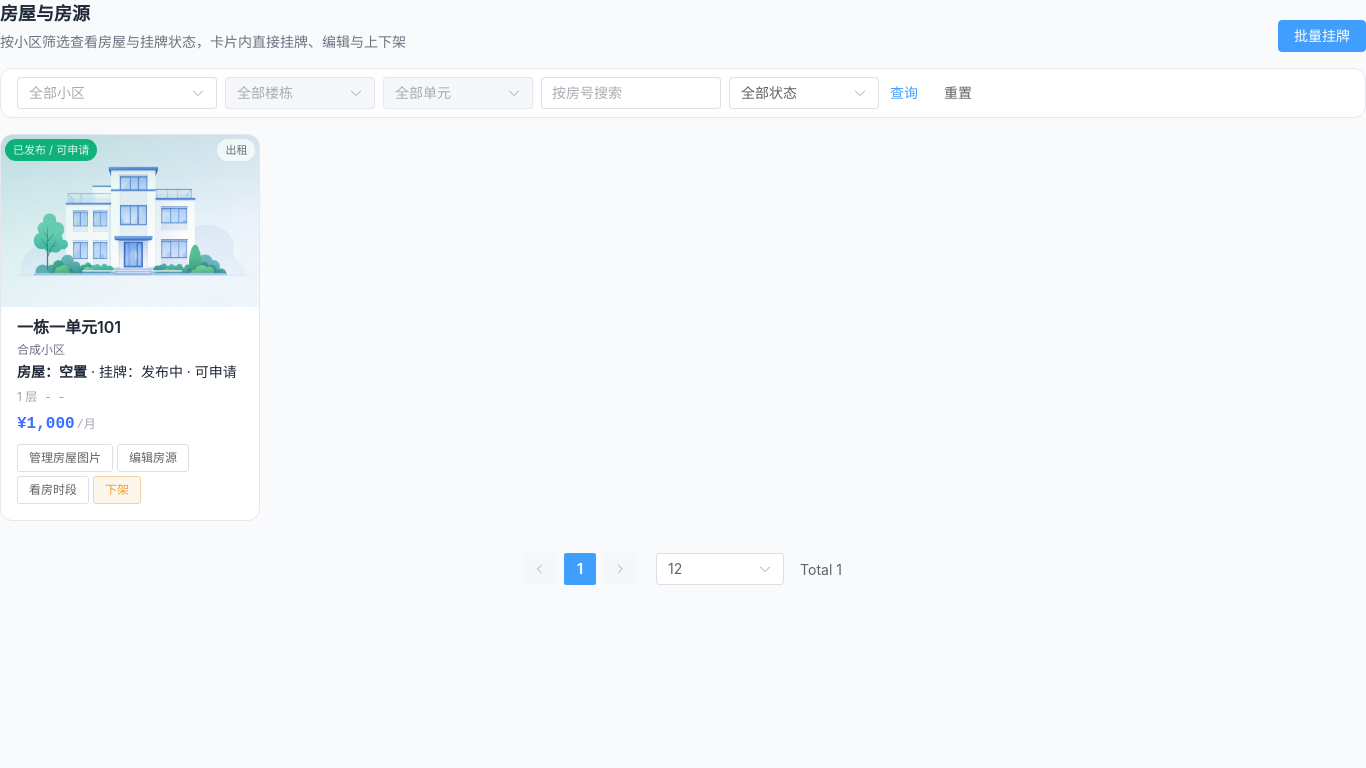
Test: 挂牌编辑加载门禁 › 关闭后迟到响应不会覆盖重新打开的详情
What coordinates should you click on to do the following:
click the button "编辑房源"
I would click on:
 (153, 458)
Its box is [117,444,189,472].
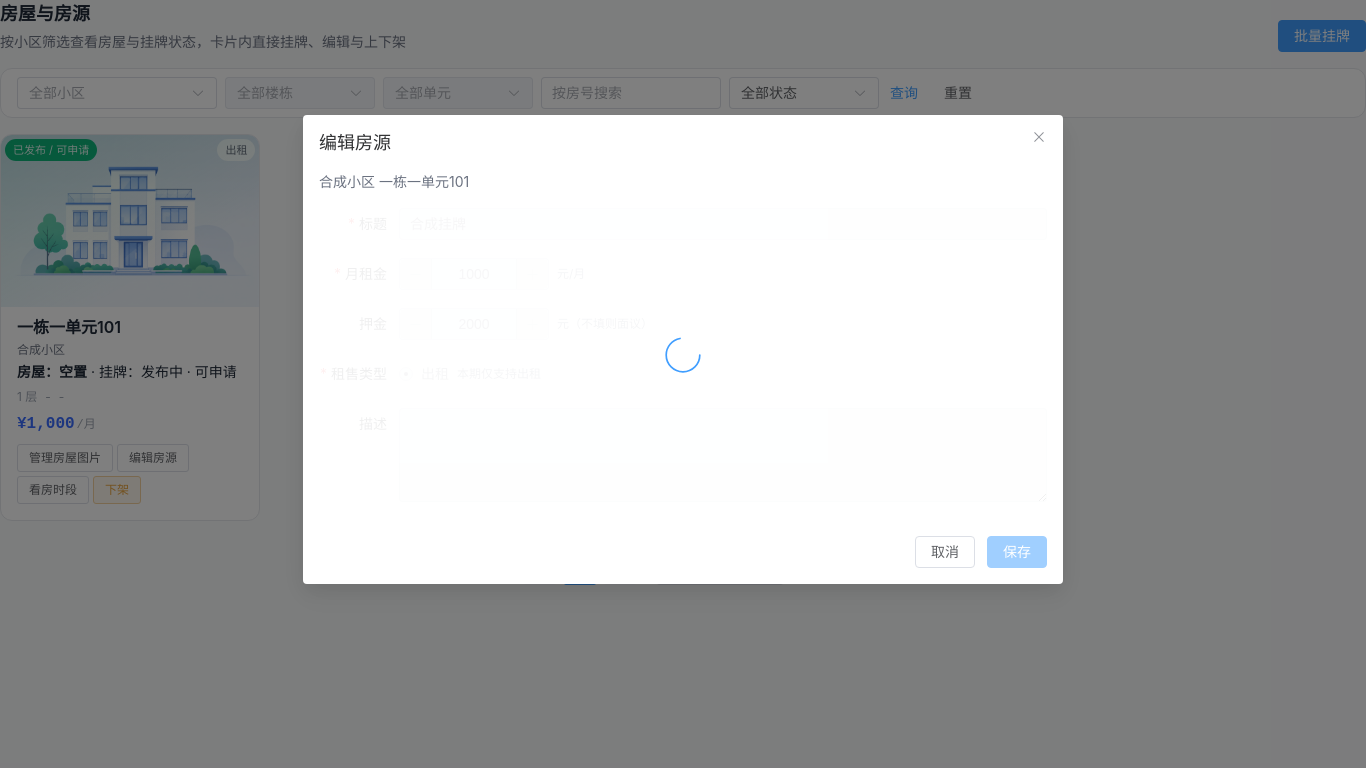
What coordinates should you click on to do the following:
click the button "取消"
I would click on:
 (945, 552)
Its box is [915,536,975,568].
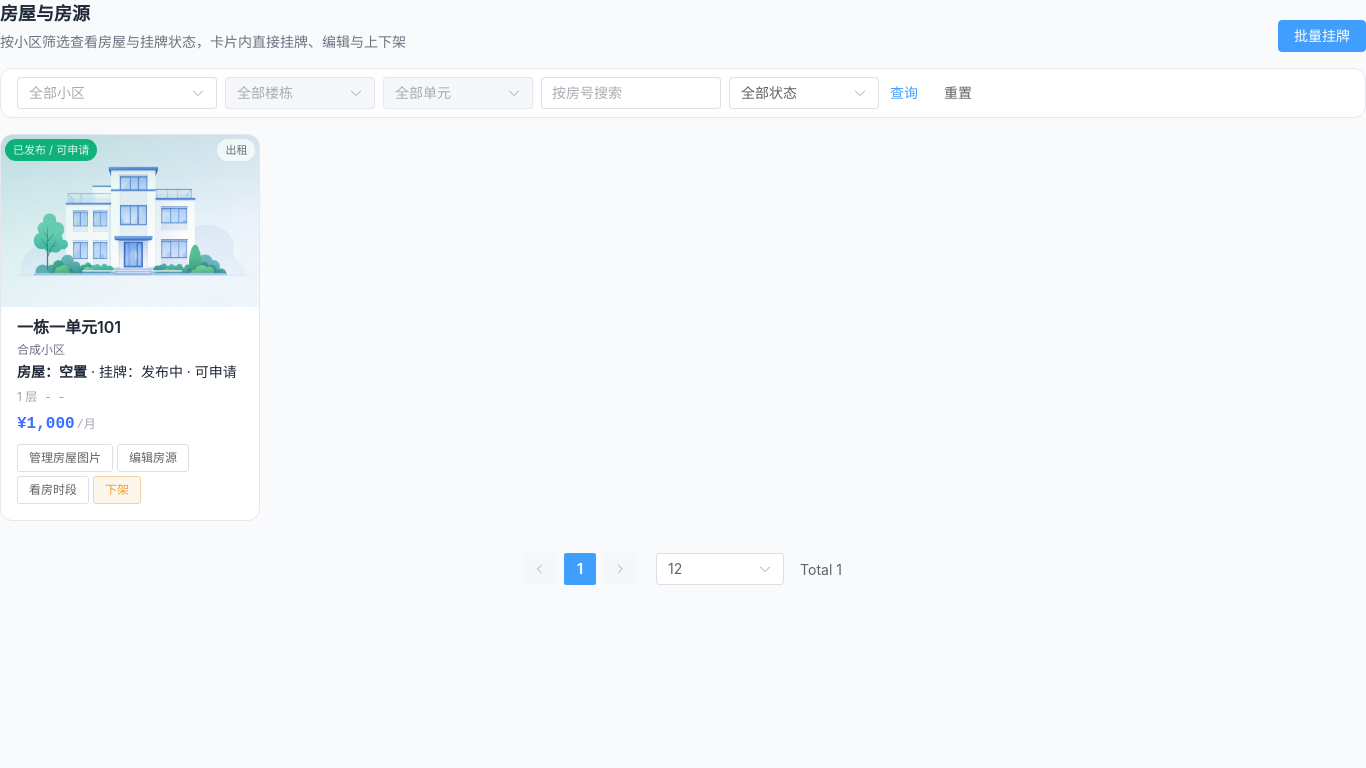
What coordinates should you click on to do the following:
click the button "编辑房源"
I would click on:
 (153, 458)
Its box is [117,444,189,472].
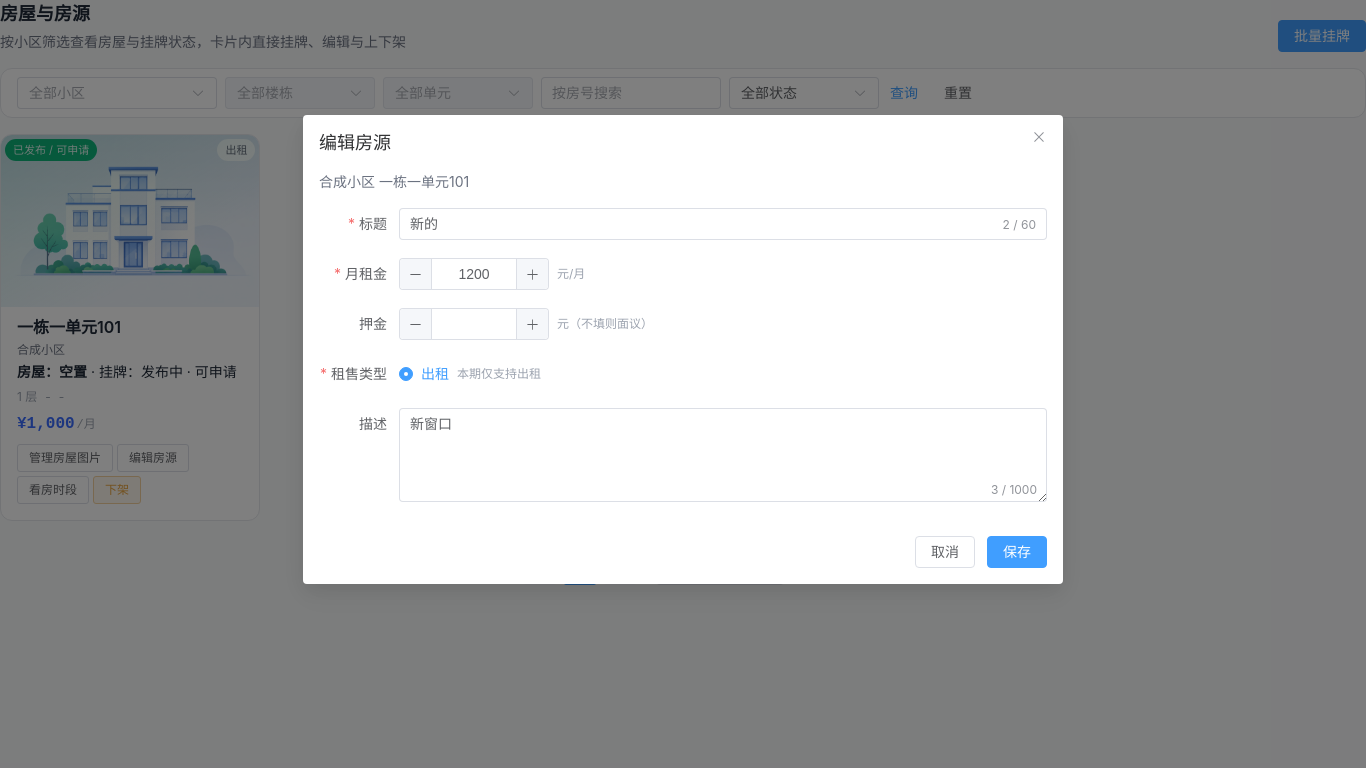
Expected: the text box labelled "描述" holds "新窗口", [399,408,1047,502]
